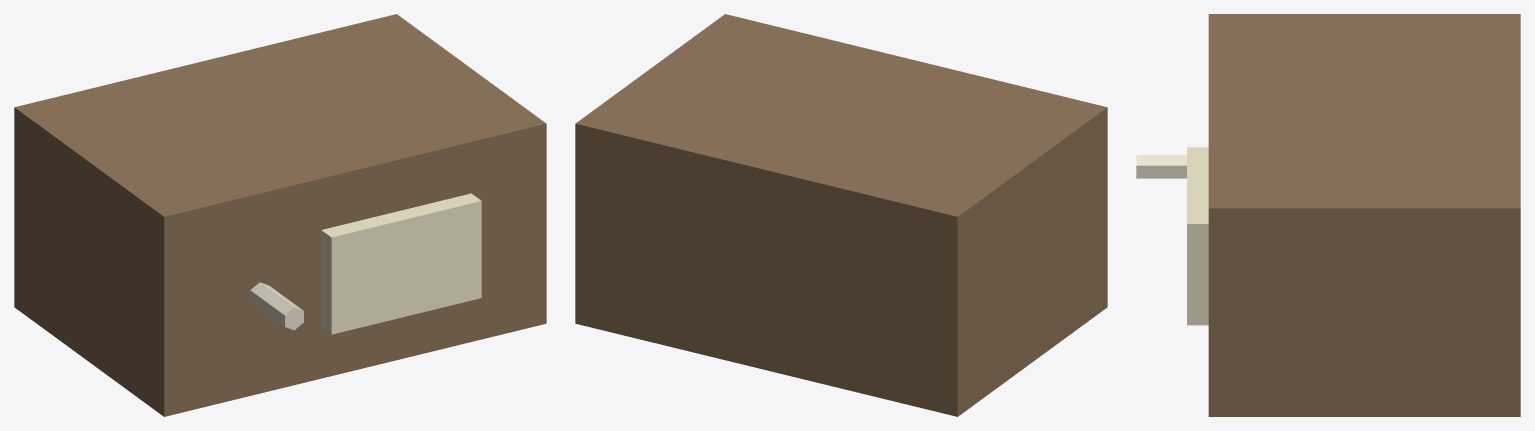
File: shop_ledger_desk.glb
The picture shows the model from 3 angles, left to right: view 1: azimuth 30°, elevation 25°; view 2: azimuth 150°, elevation 25°; view 3: azimuth 270°, elevation 25°; orthographic projection. The views are drawn at different scales.
Visible parts, largest first — view 1: desk, ledger, quill; view 2: desk; view 3: desk, ledger, quill.
Boxes of the visible parts, <box> form: desk: <box>14,14,546,416</box>; ledger: <box>321,193,481,334</box>; quill: <box>250,282,303,330</box>; desk: <box>575,14,1107,416</box>; desk: <box>1208,14,1520,416</box>; ledger: <box>1187,147,1208,325</box>; quill: <box>1136,155,1186,178</box>.
Size of the model in its own units: 1.4 by 0.7 by 1.17.
